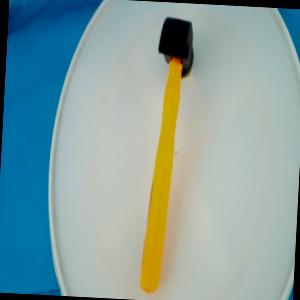martelo: (137, 14, 195, 295)
